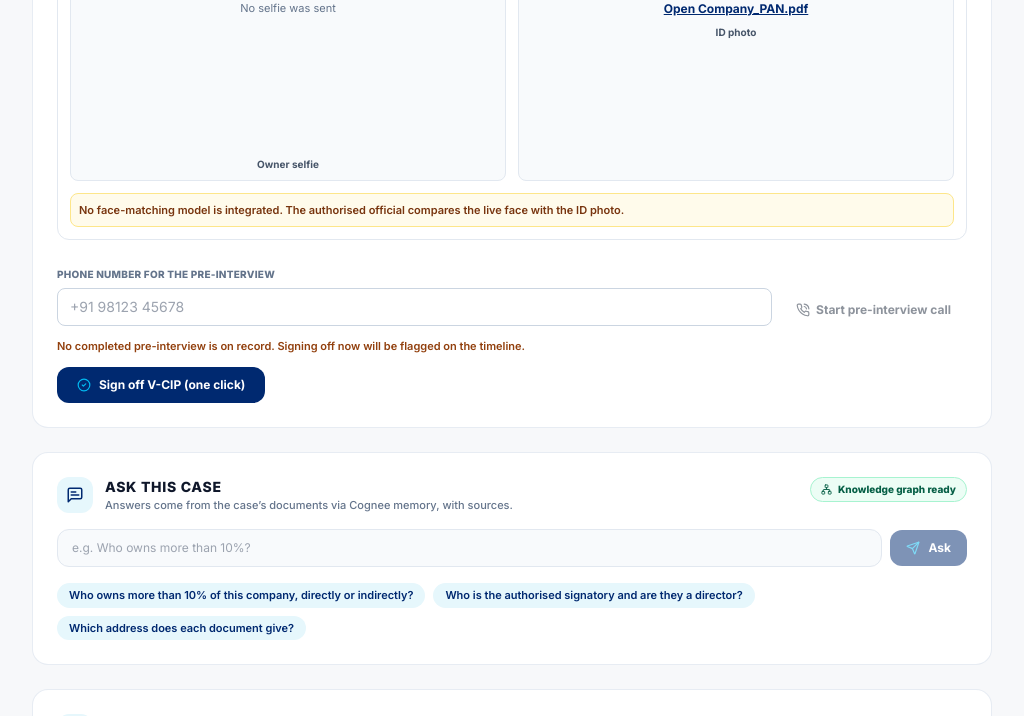
Test: V-CIP card (Compliance) › shows a refusal from the server and stays actionable
The width and height of the screenshot is (1024, 716).
(page scrolled)
Click the button "Sign off V-CIP (one click)" at point(161, 385), box 57,367 -> 265,403
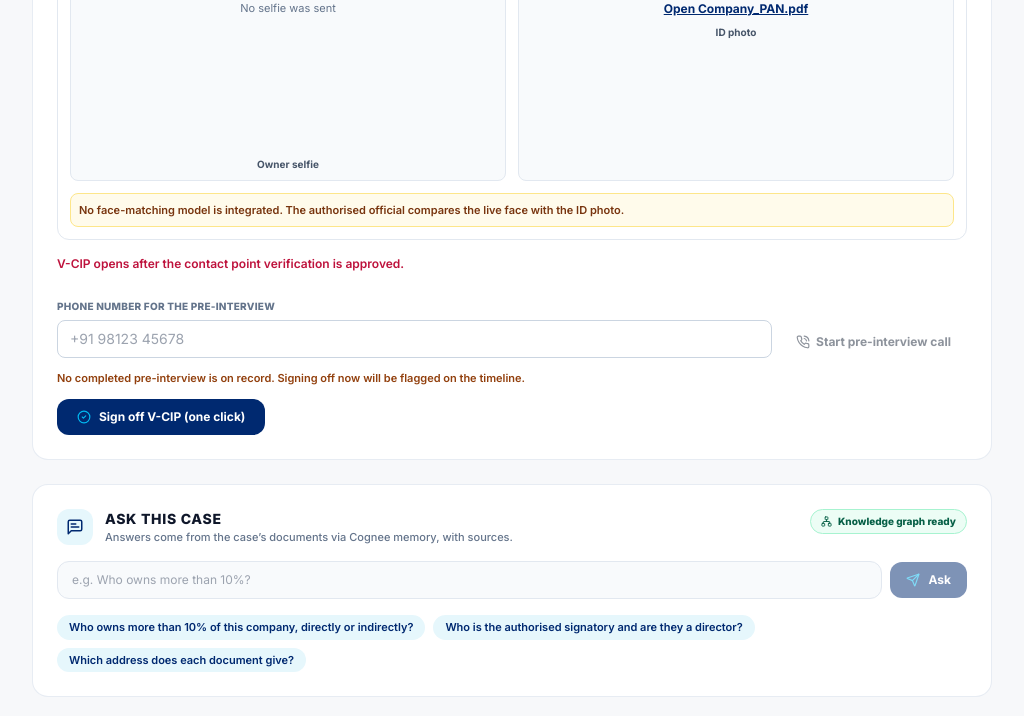
Check: the button "Sign off V-CIP (one click)" is enabled, box 57,399 -> 265,435
Check: the message reads "V-CIP opens after the contact point verification is approved.", box 57,256 -> 404,271
